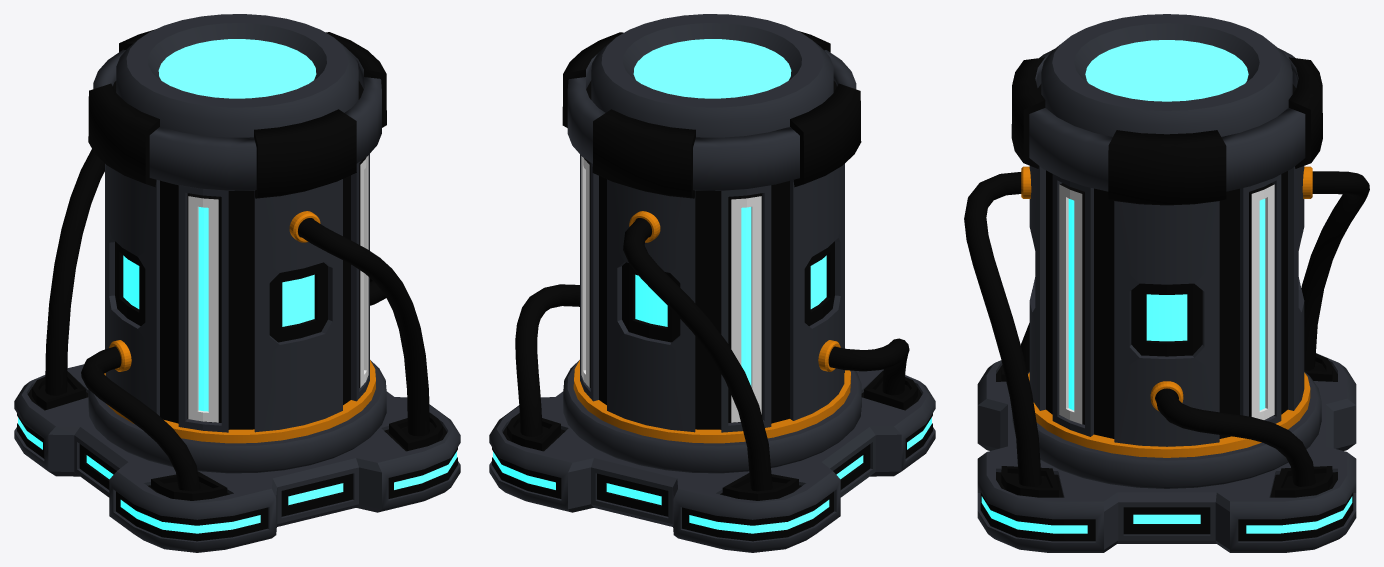
File: SM_Reactor.fbx
3 renders of one model, left to right at view 1: azimuth 30°, elevation 25°; view 2: azimuth 150°, elevation 25°; view 3: azimuth 270°, elevation 25°, orthographic. The views are drawn at different scales.
Visible parts, largest first — view 1: SM_Reactor_Base; view 2: SM_Reactor_Base; view 3: SM_Reactor_Base.
Part boxes in pixels (x1,y1,x2,y2): SM_Reactor_Base: [14, 14, 460, 552]; SM_Reactor_Base: [489, 14, 935, 552]; SM_Reactor_Base: [964, 14, 1369, 552].
Bounding box in the file's own units: 106 × 121 × 107.
